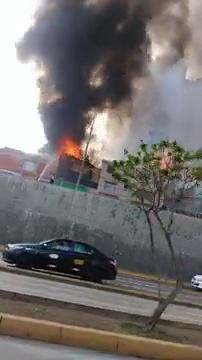fire: (58, 135, 85, 159)
smoke: (46, 10, 114, 131)
